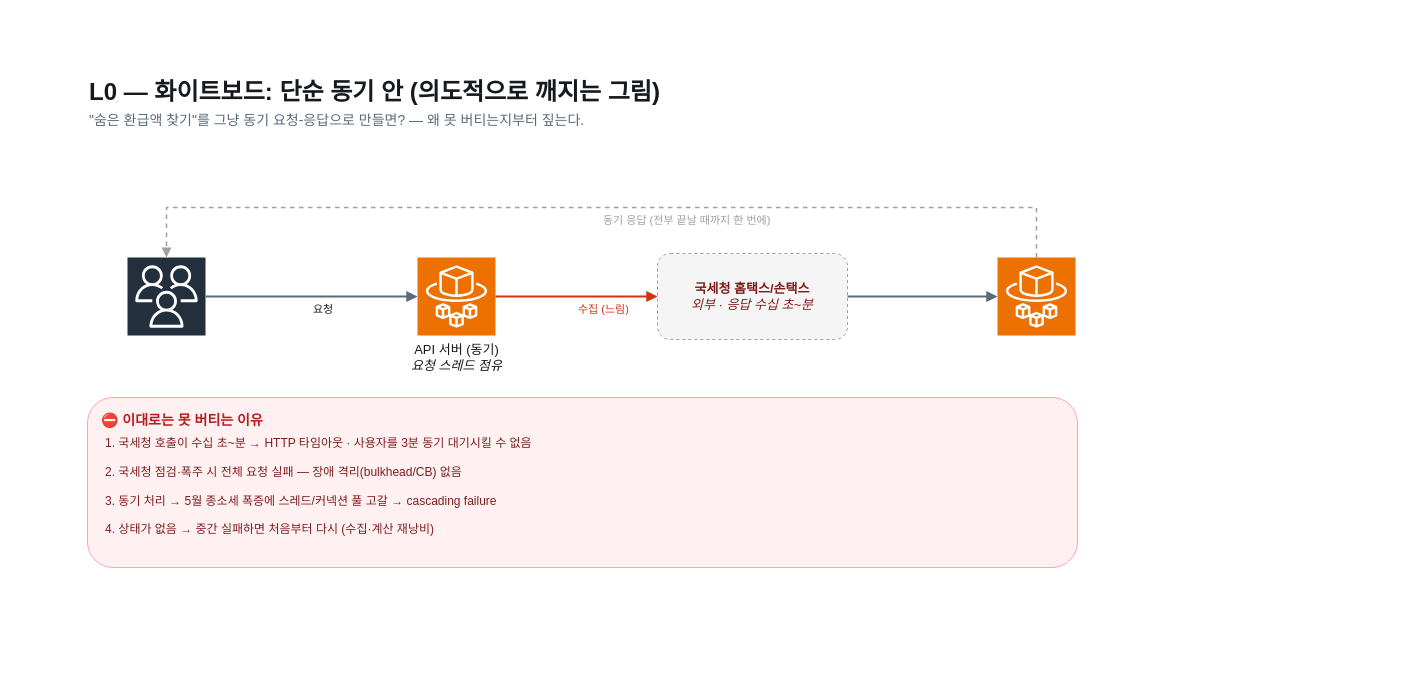
This 1414x674 diagram has some shape labels left out. Here are the shapes that lost their labels. From the top down, the centre of each, then its label:
At point 166,296: "클라이언트 모바일 앱".
At point 1036,296: "계산 엔진 세법 룰 산출".
